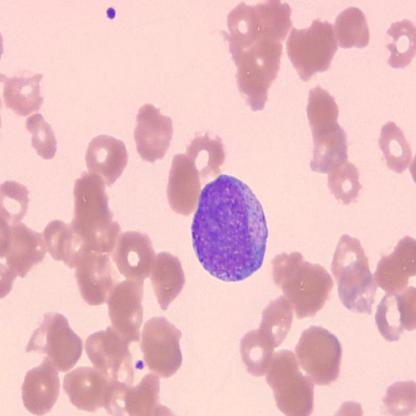Promyelocyte: (191, 176, 268, 284)
